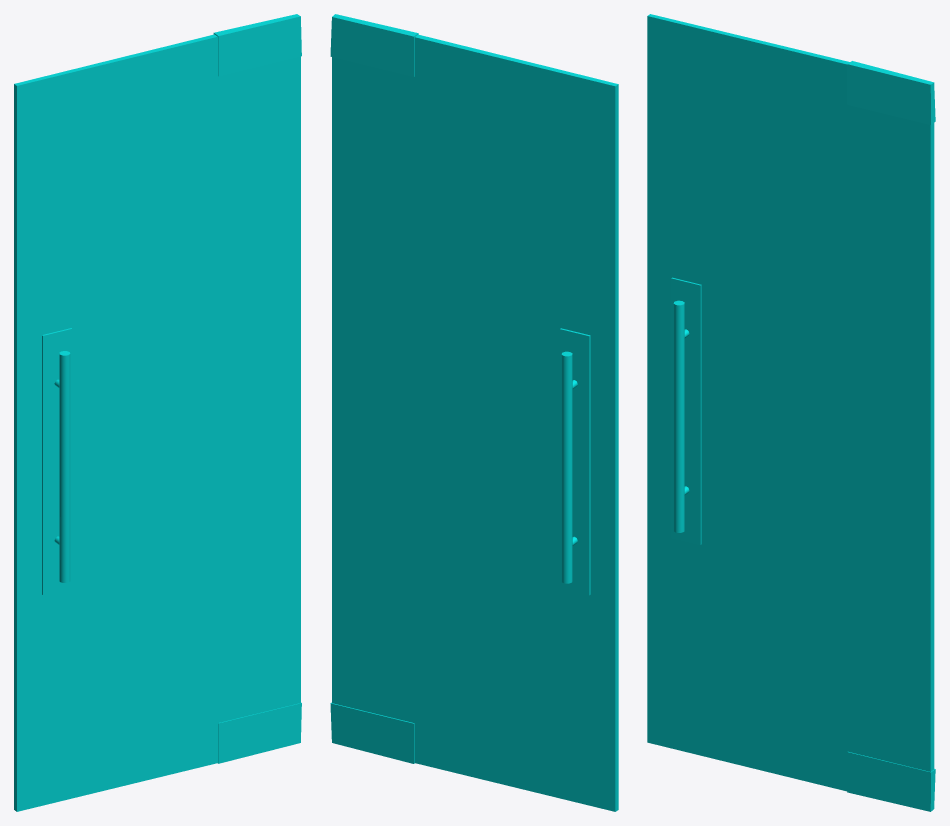
Rendered from Puerta_Impresiones.fbx.
3 views of the same model, side by side, from view 1: azimuth 30°, elevation 25°; view 2: azimuth 150°, elevation 25°; view 3: azimuth 330°, elevation 25° (orthographic).
Visible parts, largest first — view 1: cristal_puerta, metal; view 2: cristal_puerta, metal; view 3: cristal_puerta, metal.
Part boxes in pixels (<box>): cristal_puerta: <box>14,34,300,811</box>; metal: <box>42,14,301,763</box>; cristal_puerta: <box>332,34,618,811</box>; metal: <box>330,14,590,763</box>; cristal_puerta: <box>647,14,934,791</box>; metal: <box>671,61,935,811</box>.
Bounding box in the file's own units: 1.37 × 3.34 × 0.2112.
